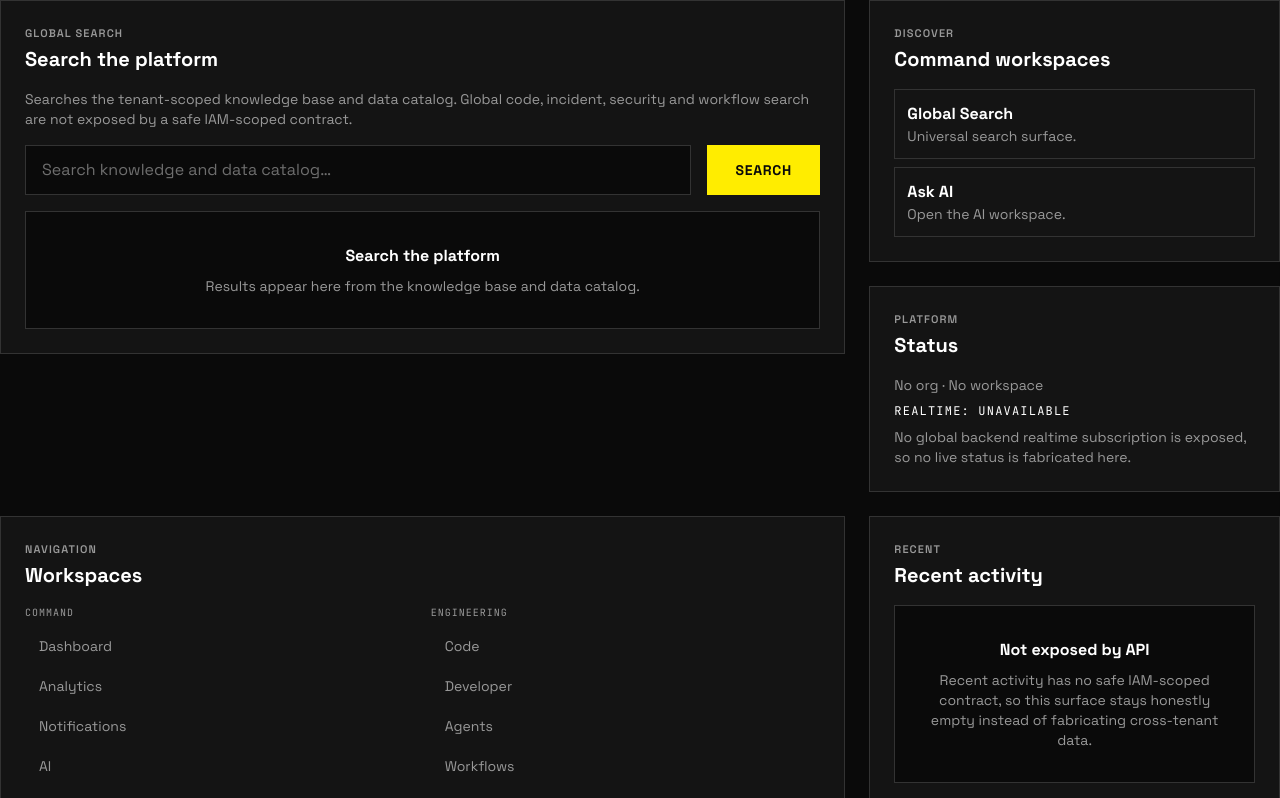
Test: CommandCenter › runs a global search across knowledge and the data catalog
In the field named "Command center search query": (358, 170) x1=25 y1=145 x2=691 y2=195, type "billing"
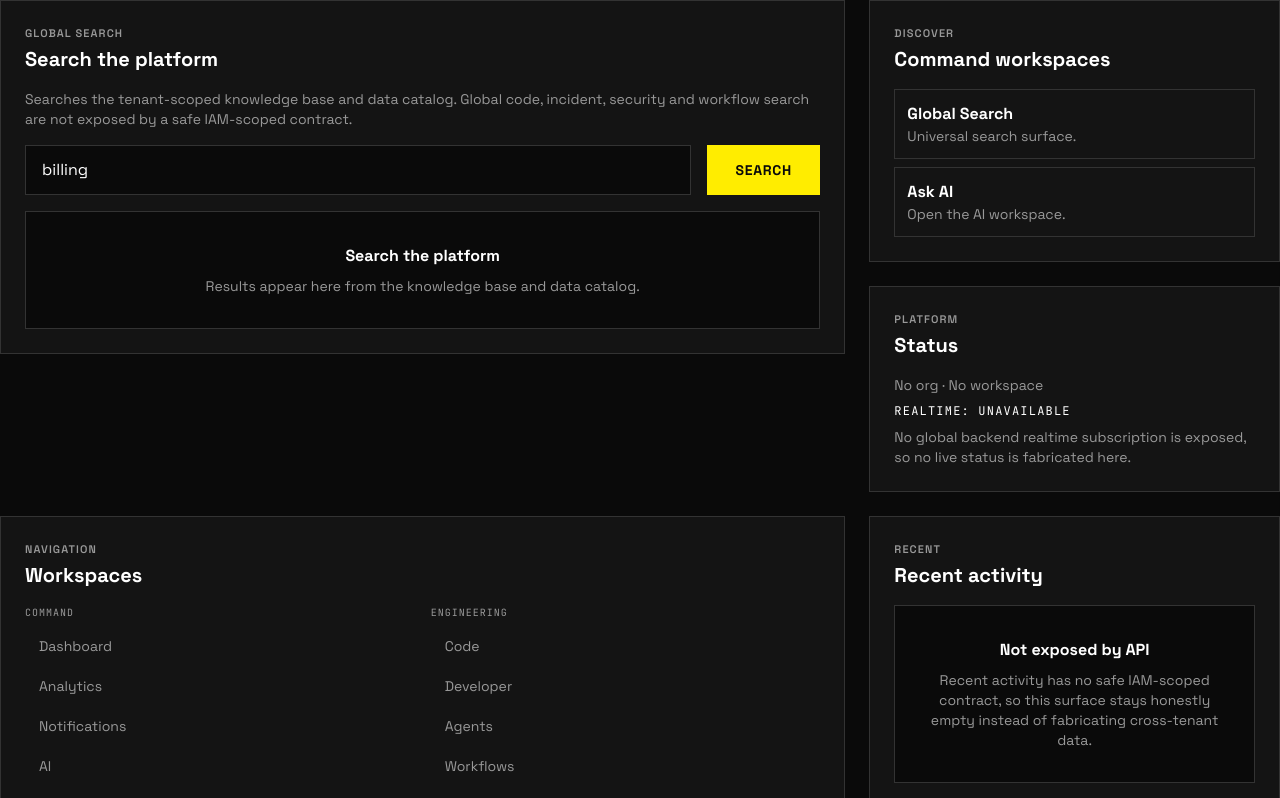
Click the button "Search": (764, 170) x1=707 y1=145 x2=820 y2=195
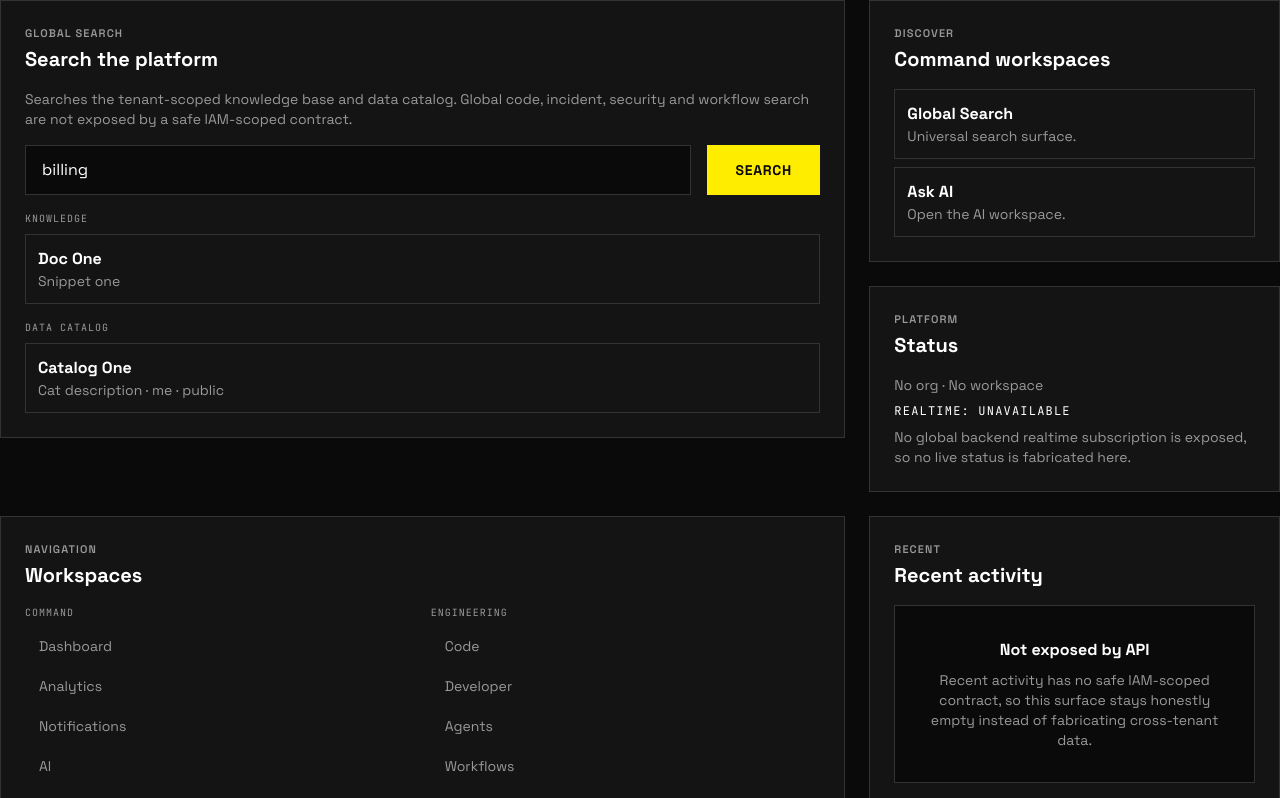
Expected: the text "Doc One" is shown, x1=38 y1=248 x2=102 y2=269
Expected: the text "Catalog One" is shown, x1=38 y1=357 x2=132 y2=378
